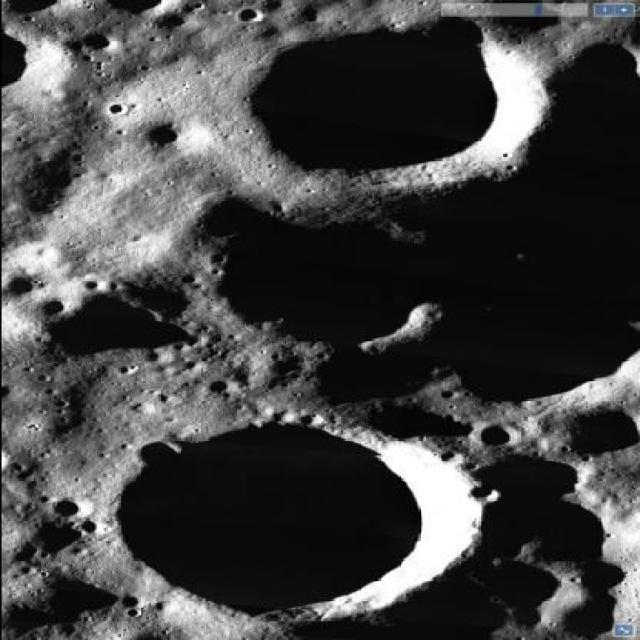crater: (94, 423, 481, 620), (243, 21, 535, 192), (80, 32, 114, 54), (49, 497, 82, 518), (150, 125, 178, 149), (234, 8, 263, 24), (108, 103, 126, 115)
